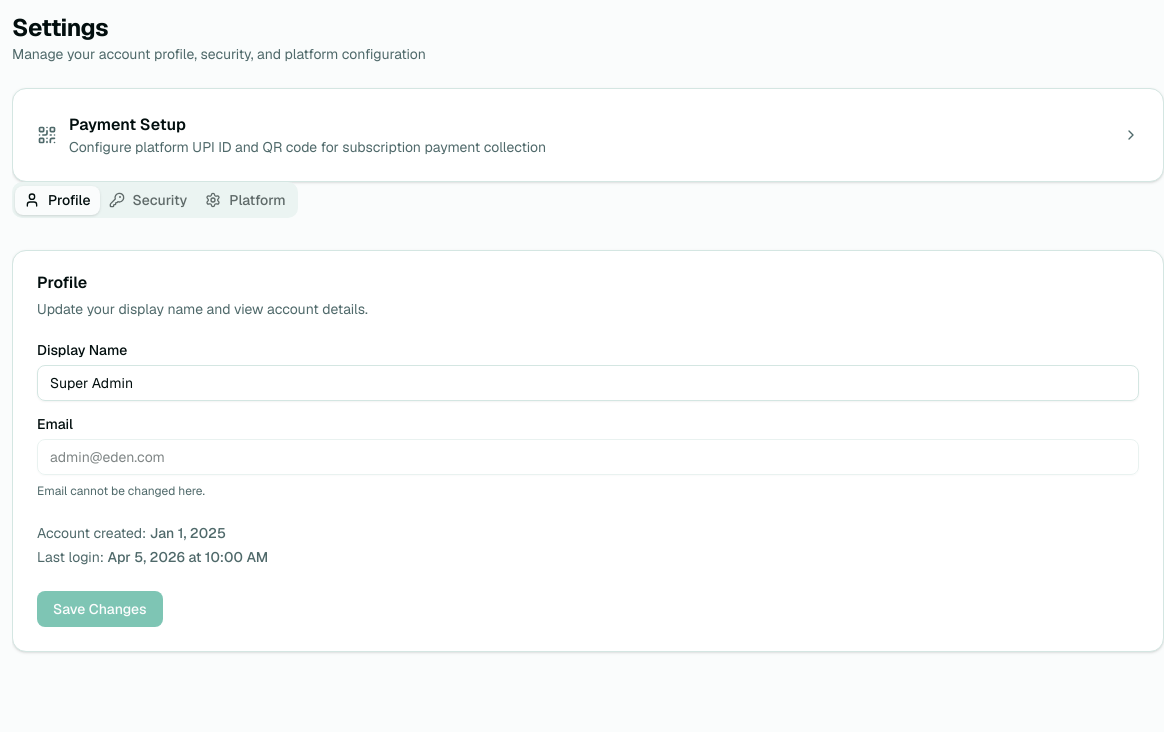
Test: SecurityTab › shows password change form
Click the tab "Security" at (148, 200), box 100,186 -> 196,214
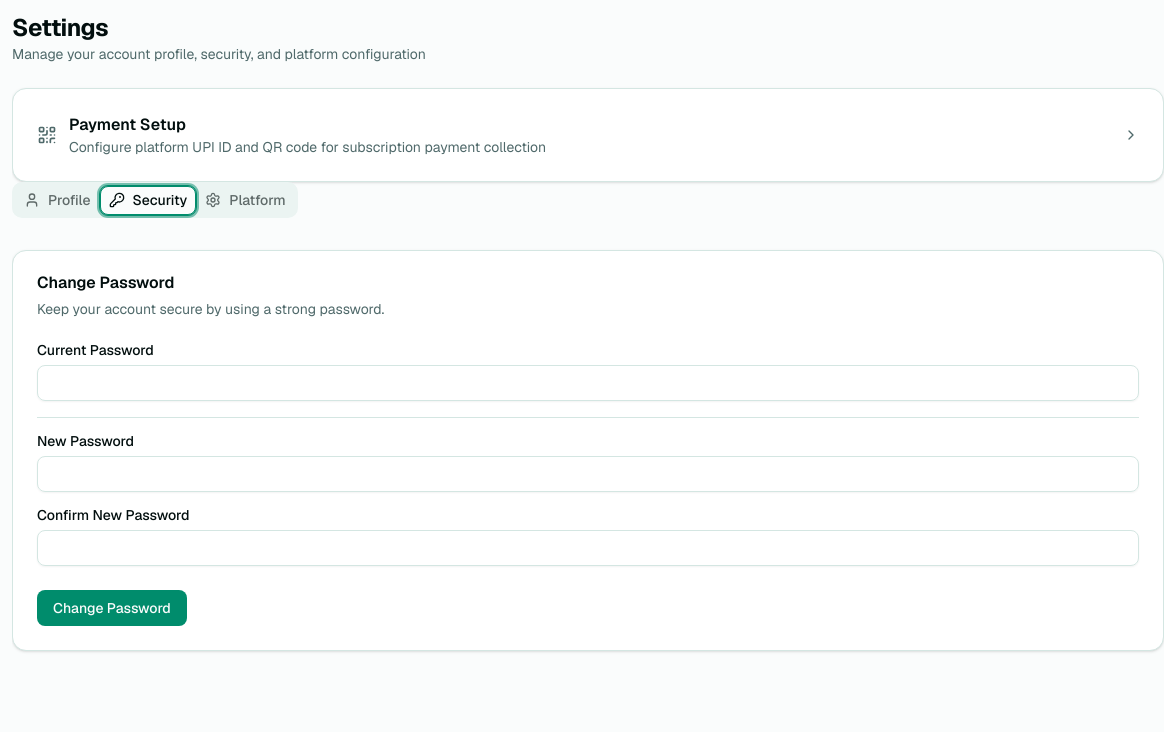
Expected: the password field labelled "Current Password" is shown, 37,365 -> 1139,401
Expected: the password field labelled "New Password" is shown, 37,456 -> 1139,492
Expected: the password field labelled "Confirm New Password" is shown, 37,530 -> 1139,566
